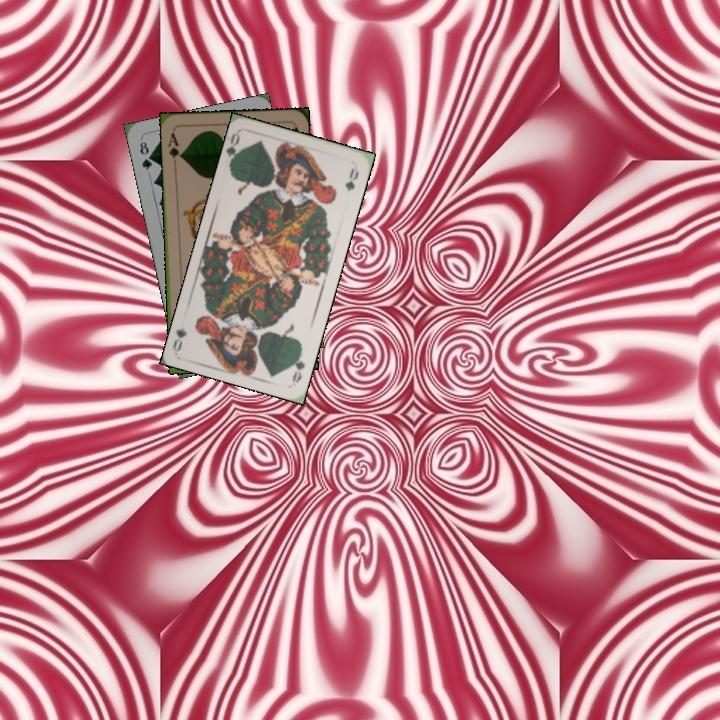G8: (136, 137, 155, 173)
GA: (164, 129, 184, 168)
GO: (224, 129, 246, 170), (287, 345, 308, 385)
